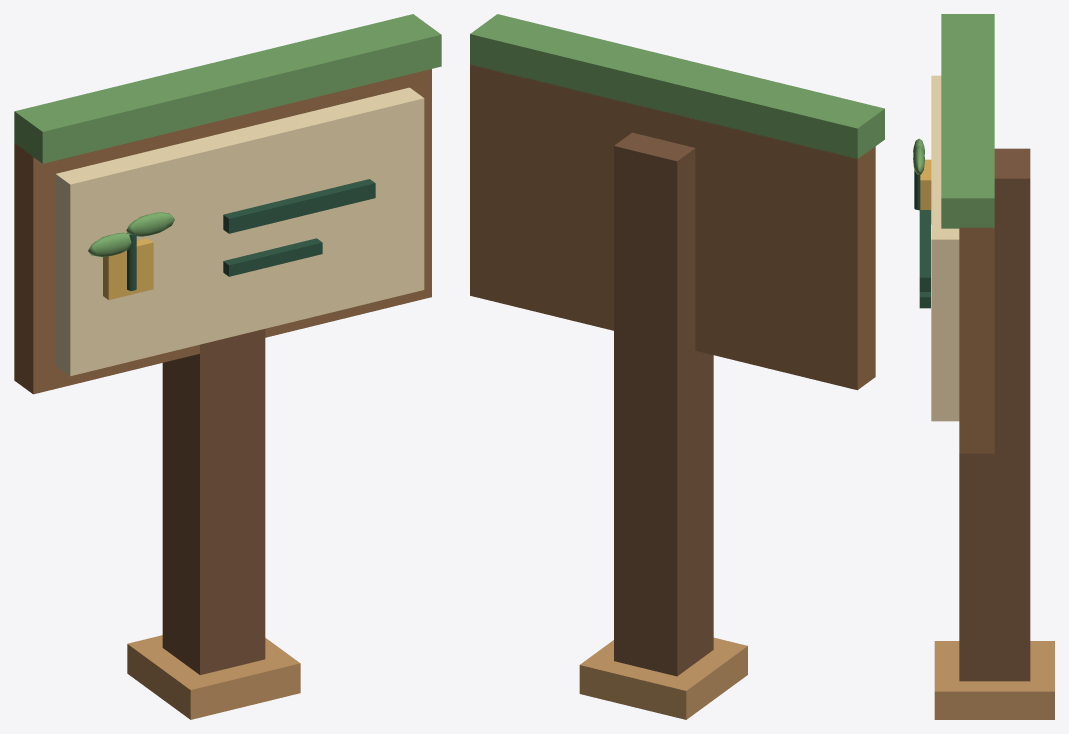
Rendered from empty-lot-sign.glb.
The picture shows the model from 3 angles, left to right: view 1: azimuth 30°, elevation 25°; view 2: azimuth 150°, elevation 25°; view 3: azimuth 270°, elevation 25°; orthographic projection. The views are drawn at different scales.
Visible parts, largest first — view 1: empty-lot-sign_cream, empty-lot-sign_post, empty-lot-sign_sage, empty-lot-sign_wood, empty-lot-sign_woodLight, empty-lot-sign_dark, empty-lot-sign_gold, sprout_mark_sage; view 2: empty-lot-sign_wood, empty-lot-sign_post, empty-lot-sign_sage, empty-lot-sign_woodLight; view 3: empty-lot-sign_post, empty-lot-sign_sage, empty-lot-sign_wood, empty-lot-sign_cream, empty-lot-sign_woodLight, empty-lot-sign_dark, empty-lot-sign_gold, sprout_mark_sage, sprout_mark_dark.
Part boxes in pixels (x1,y1,x2,y2): empty-lot-sign_cream: (55,87,424,376); empty-lot-sign_post: (162,329,265,675); empty-lot-sign_sage: (14,14,441,163); empty-lot-sign_wood: (14,69,431,394); empty-lot-sign_woodLight: (127,635,300,719); empty-lot-sign_dark: (223,179,375,276); empty-lot-sign_gold: (103,238,153,299); sprout_mark_sage: (88,212,174,256); empty-lot-sign_wood: (470,64,875,390); empty-lot-sign_post: (614,132,713,676); empty-lot-sign_sage: (470,14,884,159); empty-lot-sign_woodLight: (579,637,747,719); empty-lot-sign_post: (959,148,1030,681); empty-lot-sign_sage: (941,14,994,228); empty-lot-sign_wood: (959,227,994,453); empty-lot-sign_cream: (931,75,959,421); empty-lot-sign_woodLight: (934,641,1054,719); empty-lot-sign_dark: (919,210,930,308); empty-lot-sign_gold: (920,159,931,224); sprout_mark_sage: (913,138,924,174); sprout_mark_dark: (914,170,920,210).
Bounding box in the file's own units: 0.98 × 1.47 × 0.3185.
